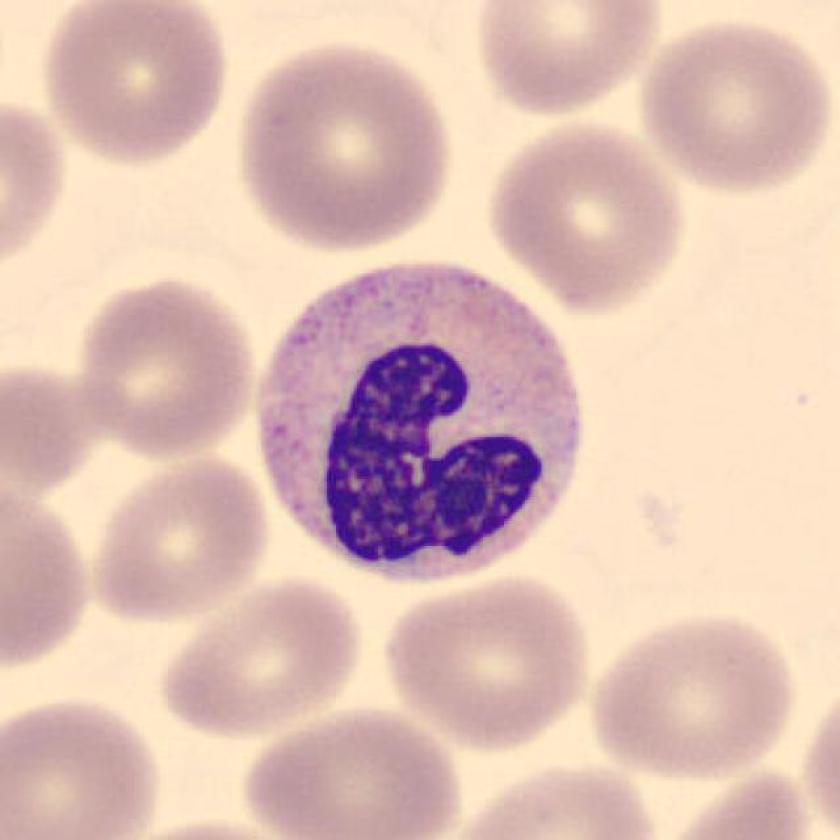neutrophil: (259, 264, 583, 577)
